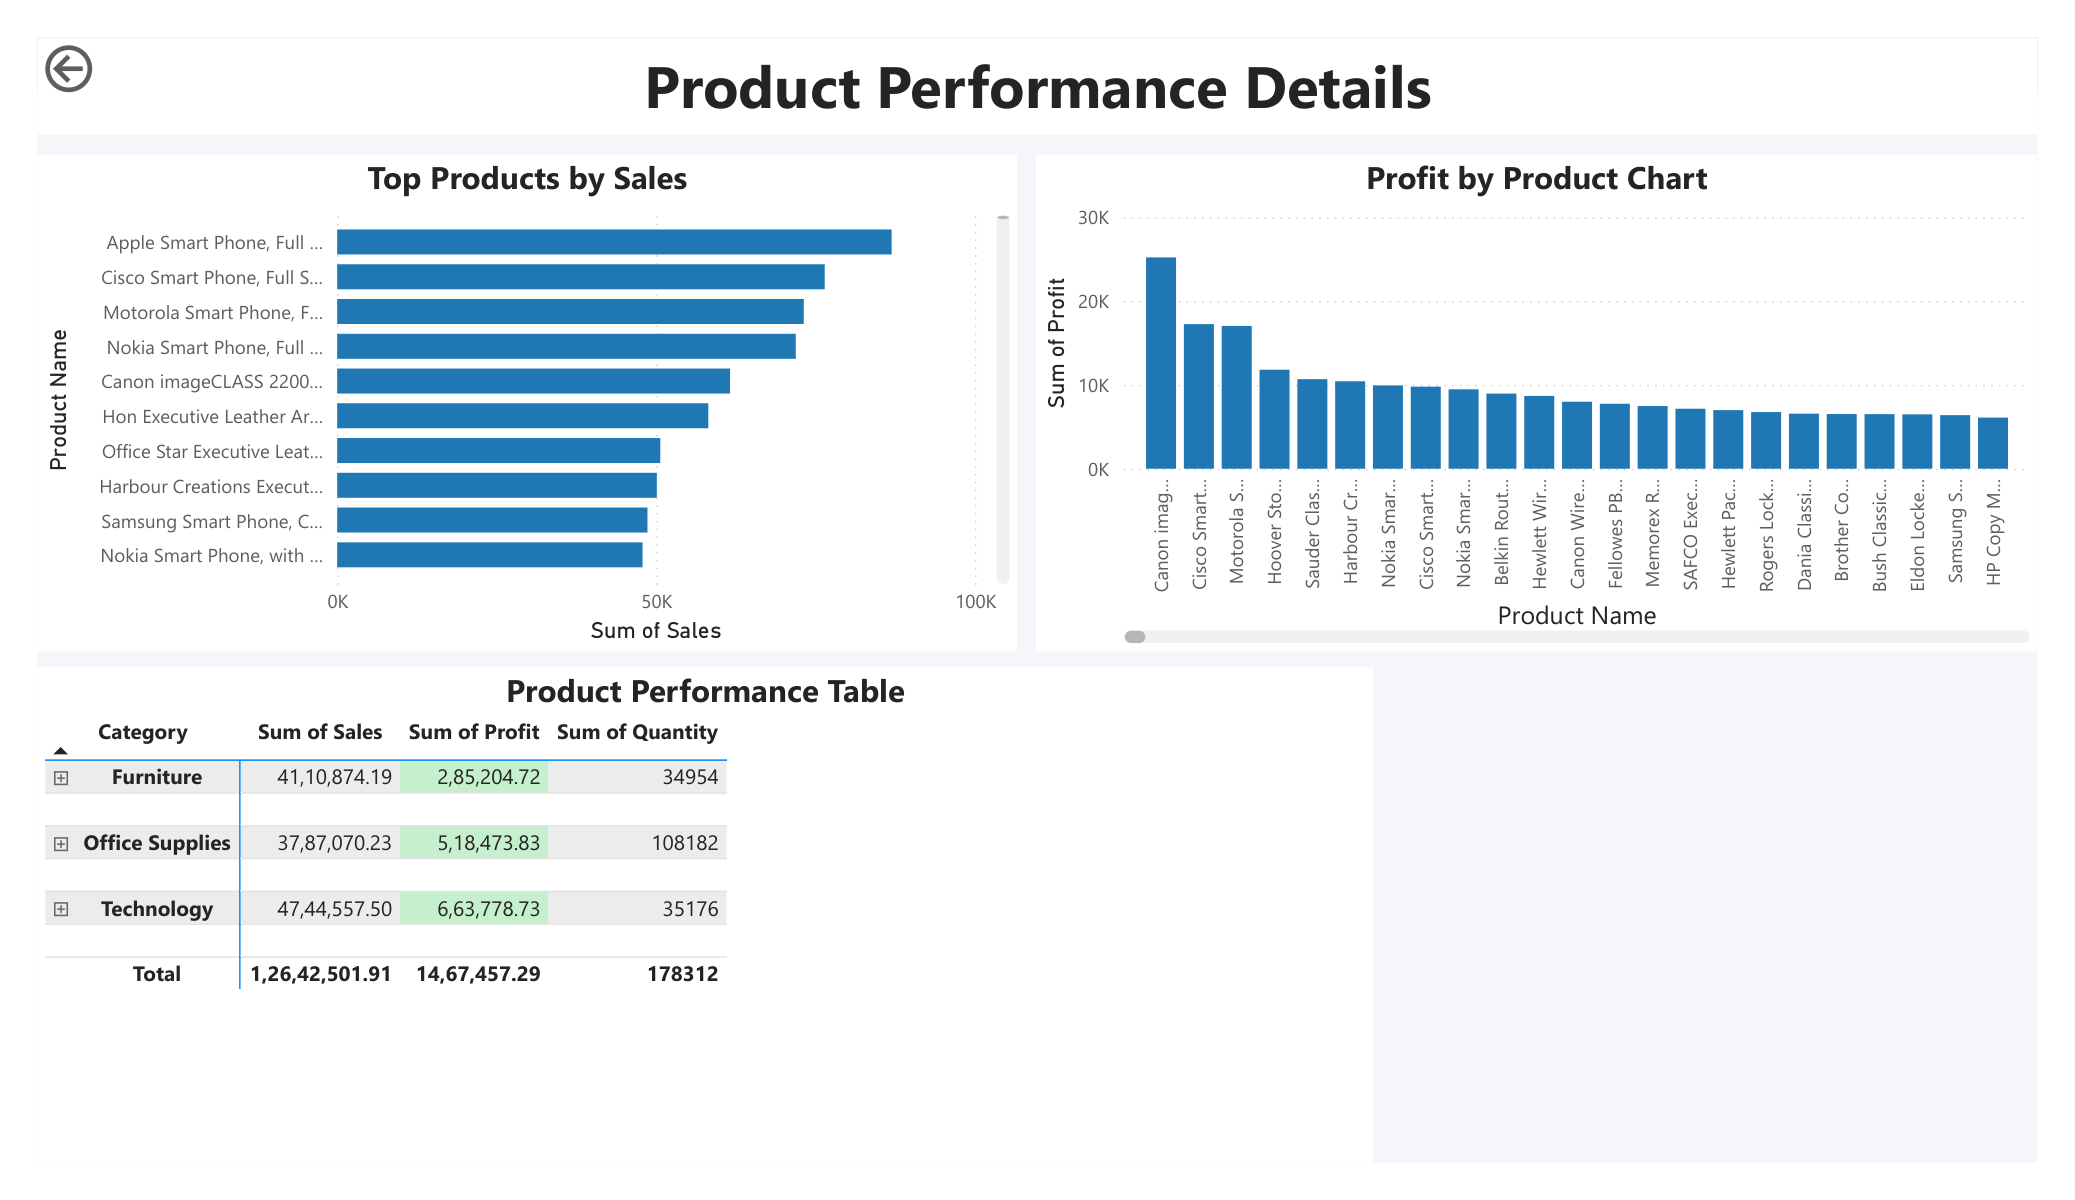

The page's visual inventory and layout, read from the dashboard file:
{"tool":"powerbi","page":{"name":"Product Details","canvas":[1280,720],"ordinal":4},"visuals":[{"type":"textbox","box":[0,0,1280,61.5],"z":0},{"type":"pivotTable","title":"Product Performance Table","fields":{"Rows":["Global_Superstore2.Category","Global_Superstore2.Product Name"],"Values":["Sum(Global_Superstore2.Sales)","Sum(Global_Superstore2.Profit)","Sum(Global_Superstore2.Quantity)"]},"box":[0,403.4,854.9,317],"z":1000},{"type":"clusteredBarChart","title":"Top Products by Sales","fields":{"Category":["Global_Superstore2.Product Name"],"Y":["Sum(Global_Superstore2.Sales)"]},"box":[0,74.8,627.3,318.5],"z":7000},{"type":"clusteredColumnChart","title":"Profit by Product Chart","fields":{"Category":["Global_Superstore2.Product Name"],"Y":["Sum(Global_Superstore2.Profit)"]},"box":[639.4,74.8,640.6,318.5],"z":8000},{"type":"actionButton","box":[0,0,100,40],"z":9000}]}

Visuals, with their boxes on the page's 1280x720 design canvas (x1, y1, x2, y2). These are canvas units, not pixel positions in the 2075x1200 screenshot, which may show the page scaled, cropped or inside an application window:
textbox: (left=0, top=0, right=1280, bottom=62)
"Product Performance Table" pivotTable: (left=0, top=403, right=855, bottom=720)
"Top Products by Sales" clusteredBarChart: (left=0, top=75, right=627, bottom=393)
"Profit by Product Chart" clusteredColumnChart: (left=639, top=75, right=1280, bottom=393)
actionButton: (left=0, top=0, right=100, bottom=40)
